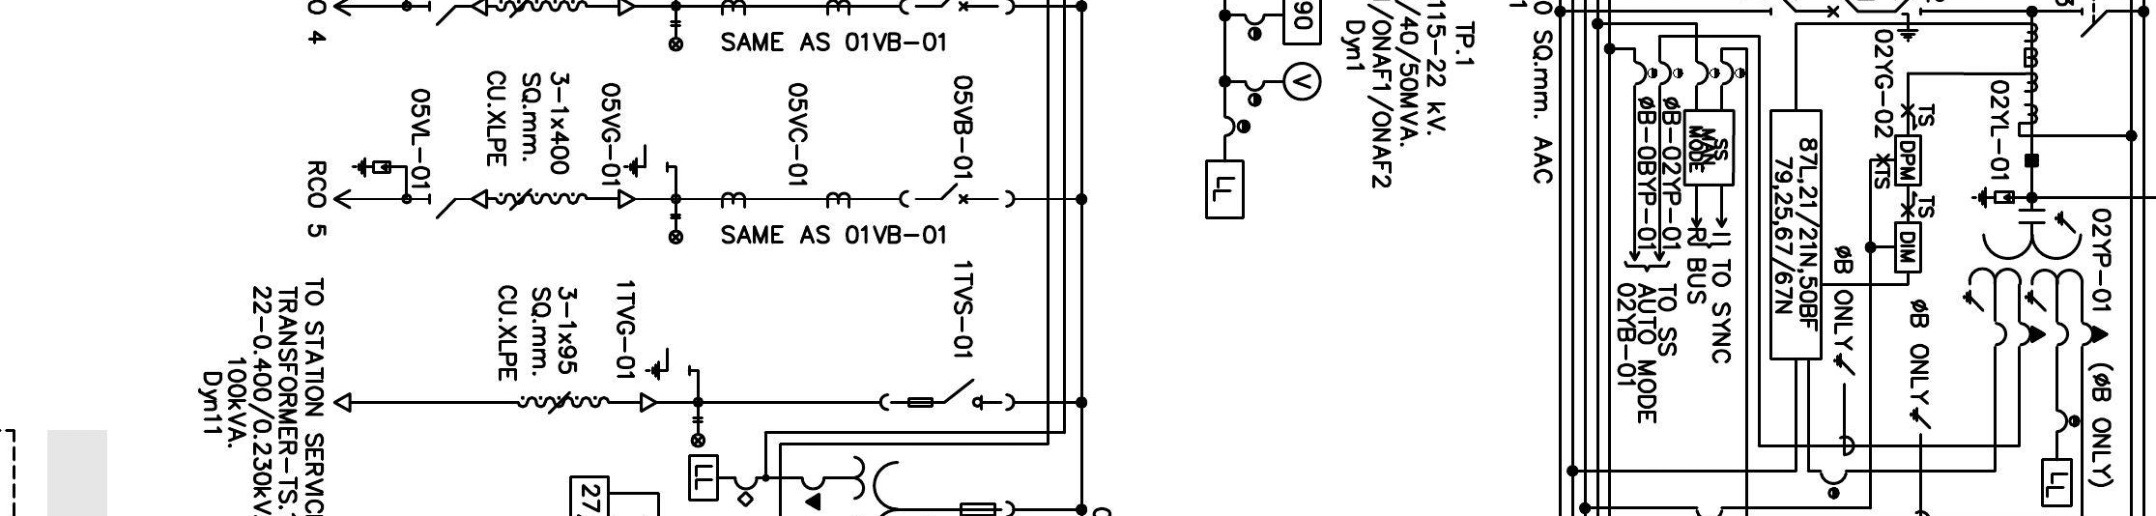115_cvt_1p: (1962, 208, 2109, 349)
115_la: (1971, 186, 2015, 209)
22_breaker: (898, 182, 1016, 208)
22_ds: (878, 378, 1016, 412)
22_ds_la_out: (332, 156, 456, 220)
22_gs: (622, 143, 669, 178), (645, 347, 691, 382)
22_ll: (667, 213, 684, 245), (668, 20, 684, 52), (690, 416, 706, 448)
DIM: (1894, 221, 1922, 274)
DPM: (1894, 134, 1923, 187)
LL: (1204, 159, 1245, 220), (2041, 458, 2073, 508), (688, 454, 720, 502)
ss_man_mode: (1683, 109, 1736, 187)
terminator_single: (617, 188, 638, 210), (639, 392, 660, 414), (469, 188, 488, 210), (333, 392, 352, 413)
v_m: (1282, 61, 1323, 102)
